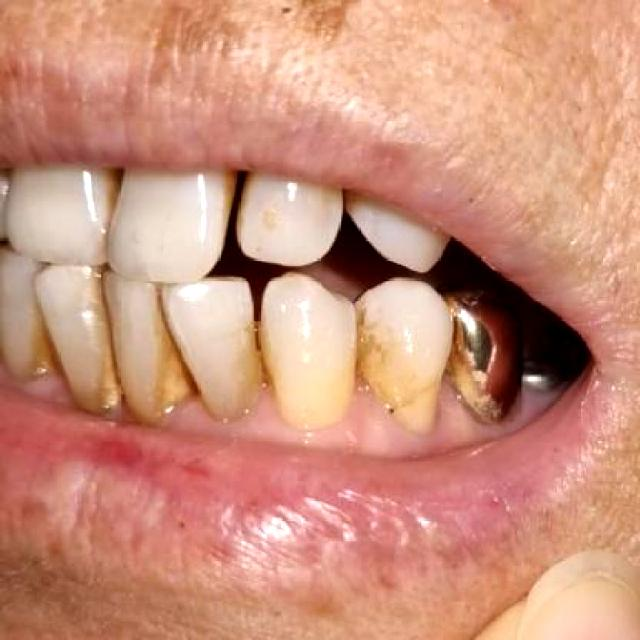Plaque: (344, 382, 400, 435), (433, 380, 481, 437), (236, 384, 288, 433), (164, 396, 219, 429), (15, 376, 70, 402), (101, 402, 138, 422)
